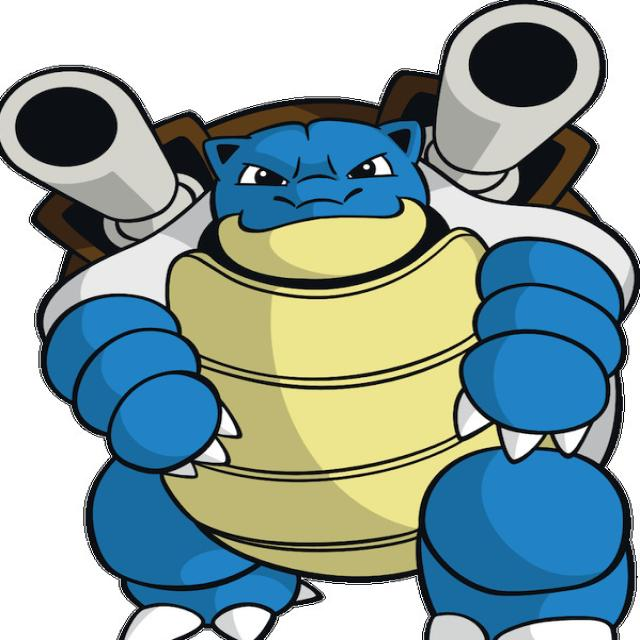Blastoise: (13, 7, 640, 640)
